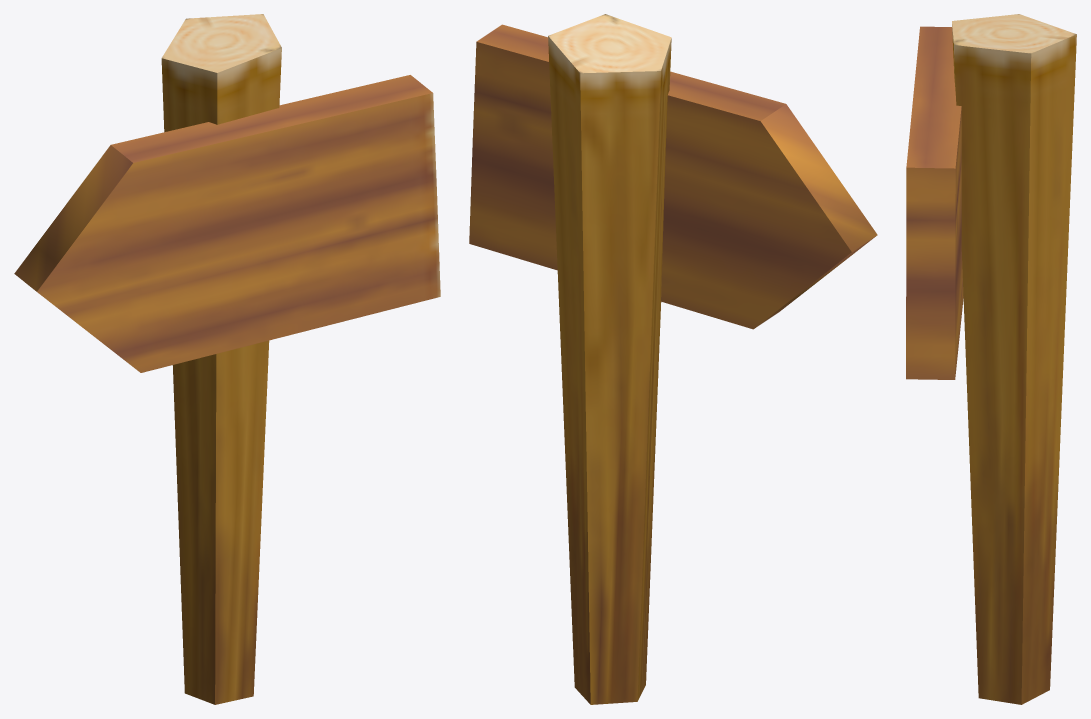
File: yardSign.fbx
3 renders of one model, left to right at view 1: azimuth 30°, elevation 25°; view 2: azimuth 150°, elevation 25°; view 3: azimuth 270°, elevation 25°, orthographic.
Visible parts, largest first — view 1: polySurface1; view 2: polySurface1; view 3: polySurface1.
Part boxes in pixels (<box>): polySurface1: <box>14,14,440,704</box>; polySurface1: <box>469,14,877,704</box>; polySurface1: <box>906,14,1076,704</box>.
Size of the model in its own units: 6.06 by 9.56 by 2.24.
